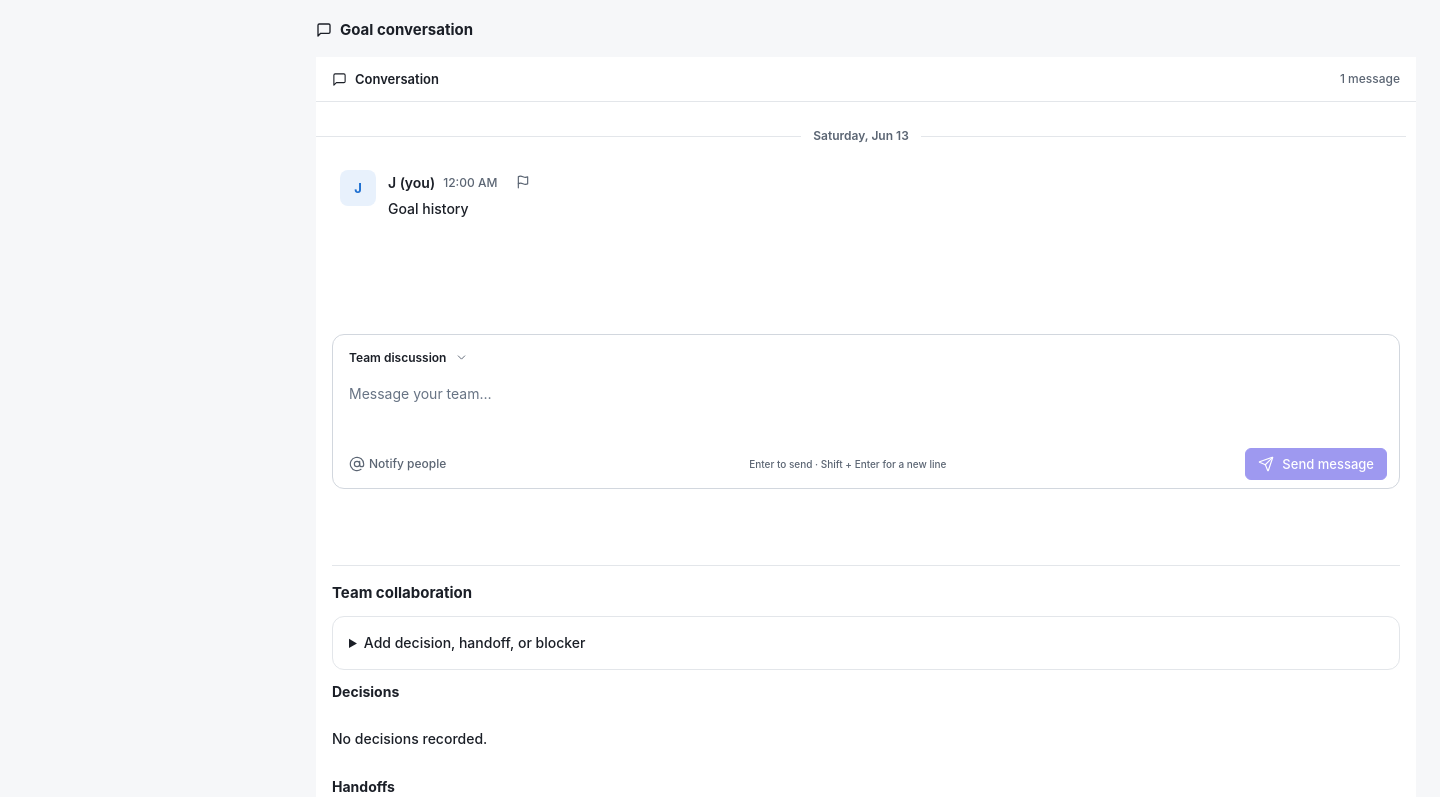
Scenario: RoomConversation › makes goal discussions readable and writable with the same room composer
(page scrolled)
Expected: the text "Goal history" is shown, [388,200,468,217]
Type "Goal update" into the text box labelled "Message" at coordinates (866, 406), box [333,371,1399,440]
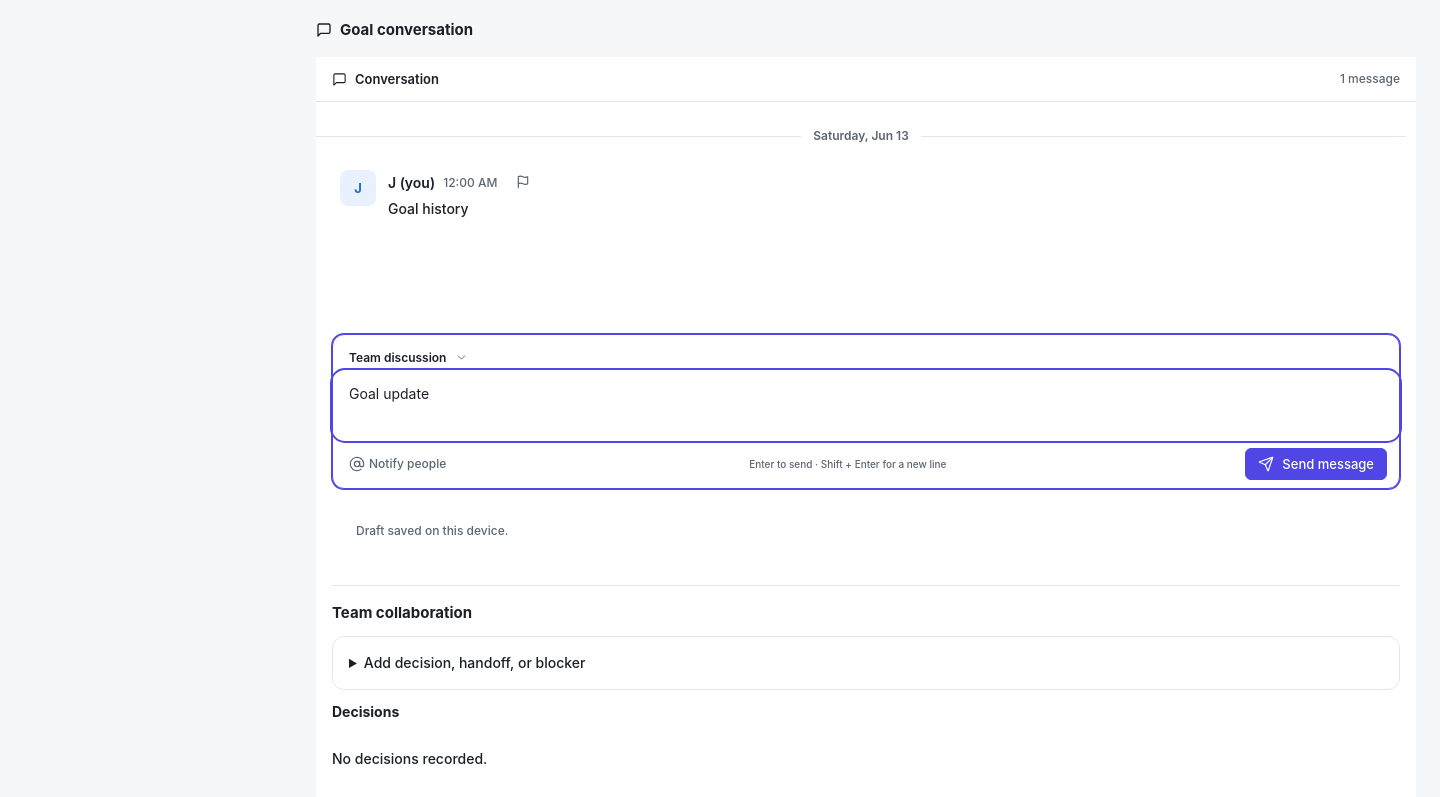
Click the button "Send message" at coordinates (1316, 464), box [1245,448,1387,480]
(page scrolled)
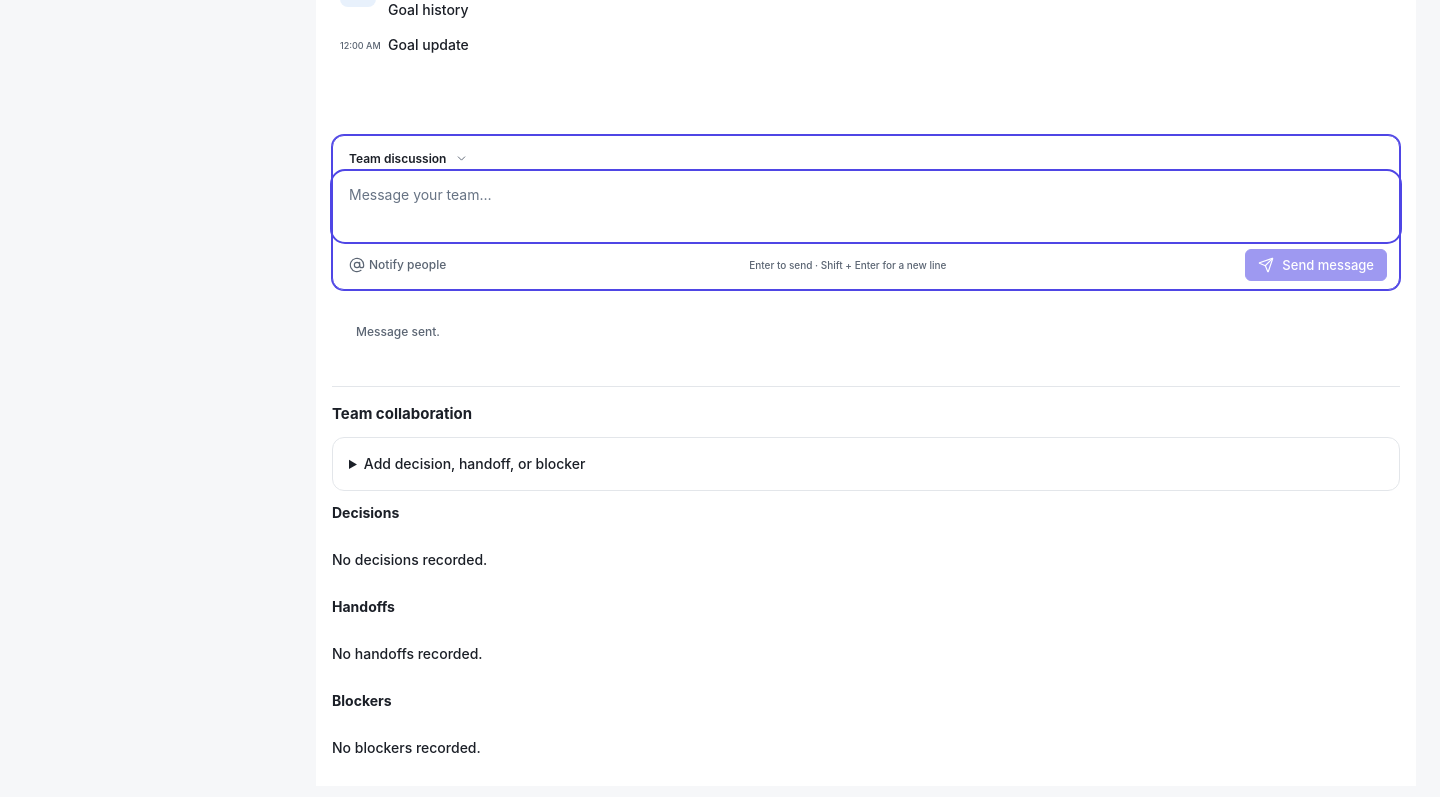
Expected: the element "Team collaboration" is shown, [332,386,1400,774]
Result: the text "Message sent." is shown at [356,324,440,339]
